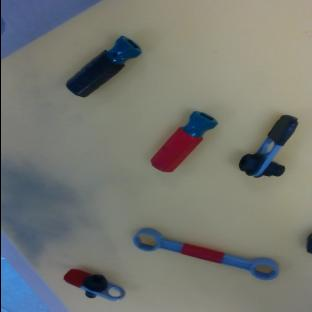part_2_bad: (63, 32, 143, 104)
part_2_good: (147, 105, 218, 179), (60, 267, 127, 305)
part_3_bad: (306, 233, 312, 254)
part_3_good: (131, 225, 280, 284)
